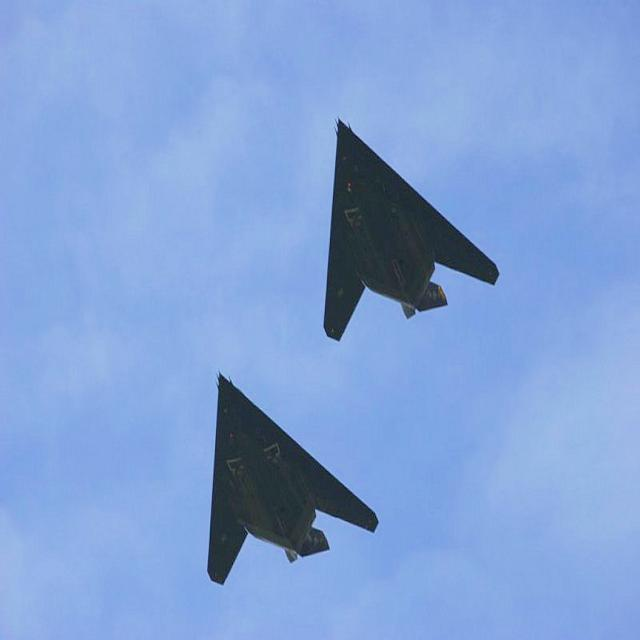MIL_Plane: (323, 116, 499, 342), (206, 367, 379, 586)
